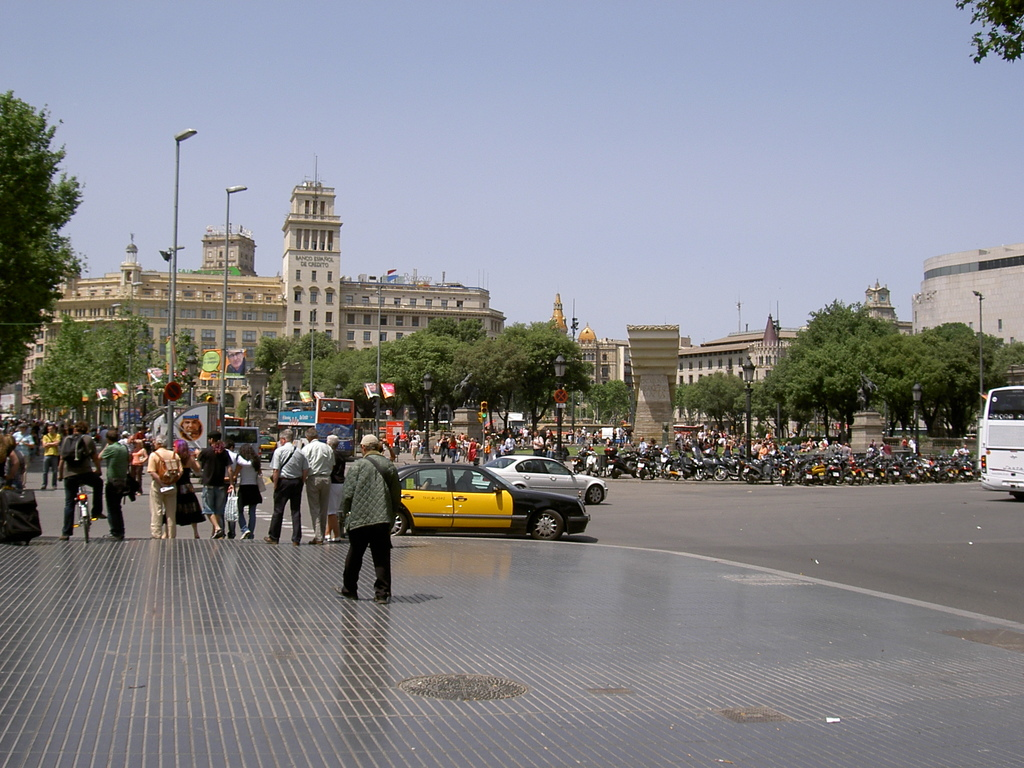Car: (331, 465, 588, 542), (470, 457, 611, 498), (256, 436, 275, 457)
